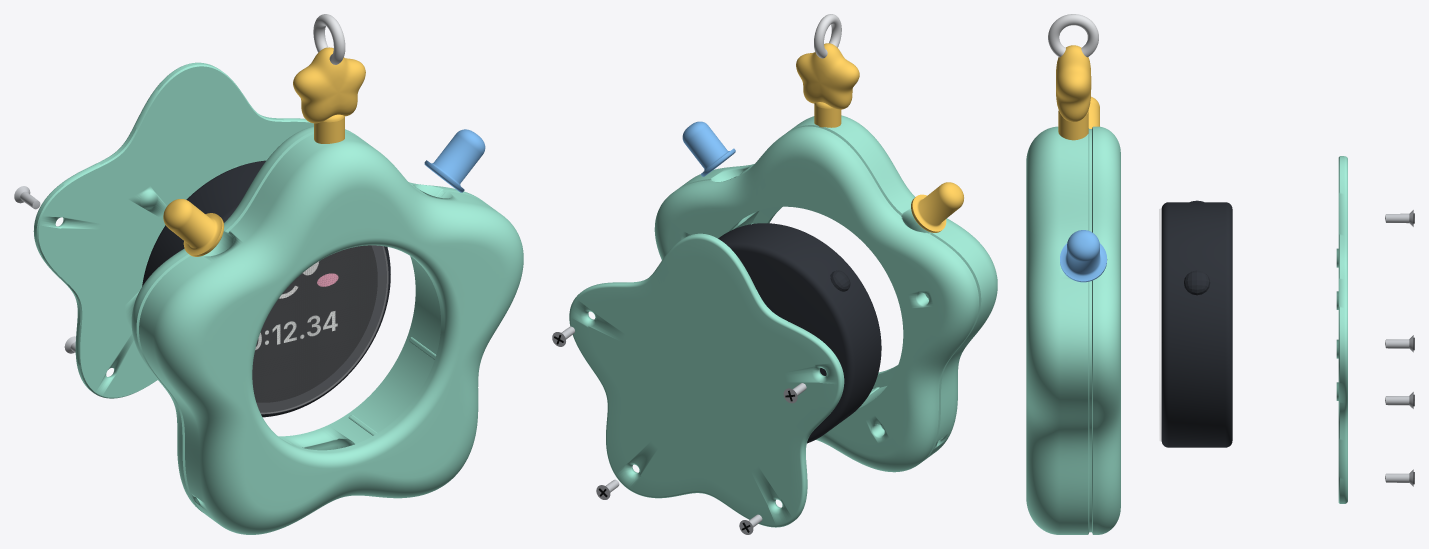
File: star_stopwatch_exploded.glb
3 renders of one model, left to right at view 1: azimuth 30°, elevation 25°; view 2: azimuth 150°, elevation 25°; view 3: azimuth 270°, elevation 25°, orthographic. The views are drawn at different scales.
Visible parts, largest first — view 1: StarCase, BackLid, CoverGlass, Screen, M5StopWatch_Body, CrownStar, ButtonA_Yellow, ButtonB_Blue, KeyRing, CrownStem; view 2: BackLid, StarCase, M5StopWatch_Body, CrownStar, ButtonA_Yellow, ButtonB_Blue, KeyRing, CrownStem; view 3: StarCase, M5StopWatch_Body, BackLid, CrownStar, ButtonB_Blue, KeyRing, CoverGlass, CrownStem, DeviceKey.001.
Boxes of the visible parts, x1,y1,x2,y2 form: StarCase: [131, 126, 523, 534]; BackLid: [33, 62, 313, 398]; CoverGlass: [252, 245, 388, 413]; Screen: [252, 245, 377, 402]; M5StopWatch_Body: [142, 160, 390, 417]; CrownStar: [293, 47, 365, 123]; ButtonA_Yellow: [163, 199, 224, 256]; ButtonB_Blue: [424, 129, 485, 192]; KeyRing: [313, 14, 345, 64]; CrownStem: [314, 114, 344, 143]; BackLid: [569, 233, 844, 527]; StarCase: [654, 115, 997, 472]; M5StopWatch_Body: [718, 223, 881, 443]; CrownStar: [796, 43, 859, 109]; ButtonA_Yellow: [911, 182, 963, 232]; ButtonB_Blue: [682, 121, 735, 176]; KeyRing: [814, 14, 841, 58]; CrownStem: [814, 102, 841, 127]; StarCase: [1026, 126, 1120, 534]; M5StopWatch_Body: [1161, 202, 1232, 447]; BackLid: [1336, 156, 1347, 503]; CrownStar: [1056, 45, 1091, 122]; ButtonB_Blue: [1060, 230, 1107, 282]; KeyRing: [1048, 14, 1098, 57]; CoverGlass: [1159, 209, 1161, 440]; CrownStem: [1058, 110, 1088, 140]; DeviceKey.001: [1184, 270, 1210, 295].
Size of the model in its own units: 0.0868 by 0.1113 by 0.0821.
11 materials, 1 textured.
